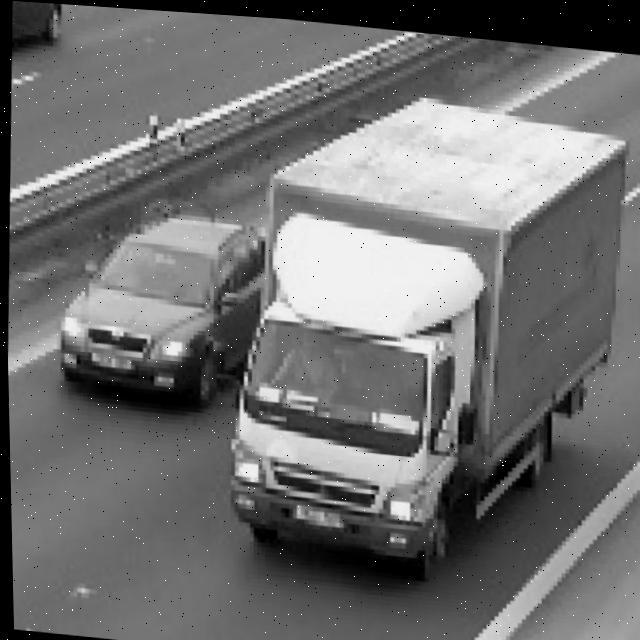truck: (213, 64, 632, 574)
